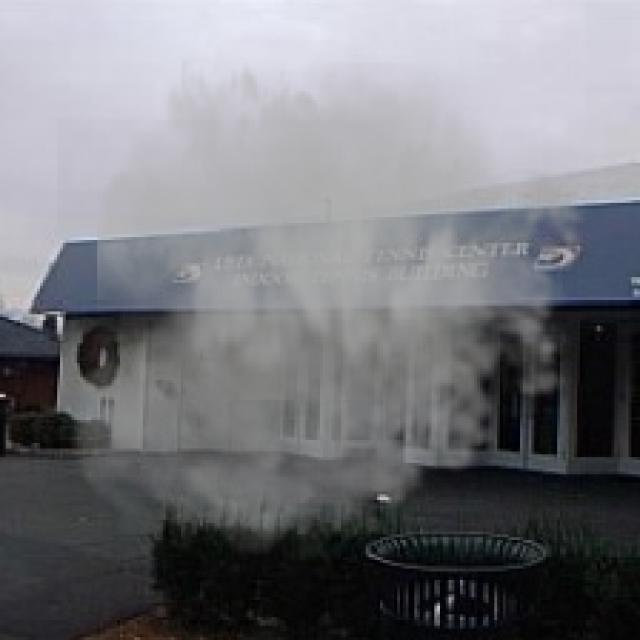Smoke: (57, 22, 600, 572)
